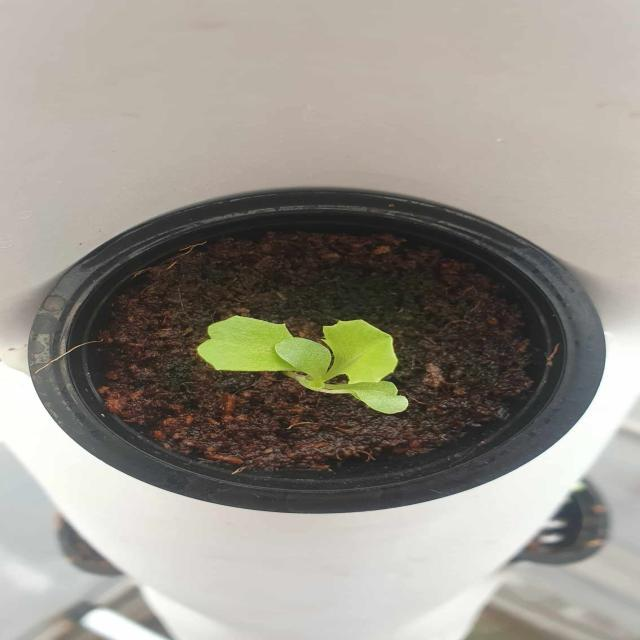Lettuce-Not-Ready-to-Harvest: (189, 315, 408, 412)
